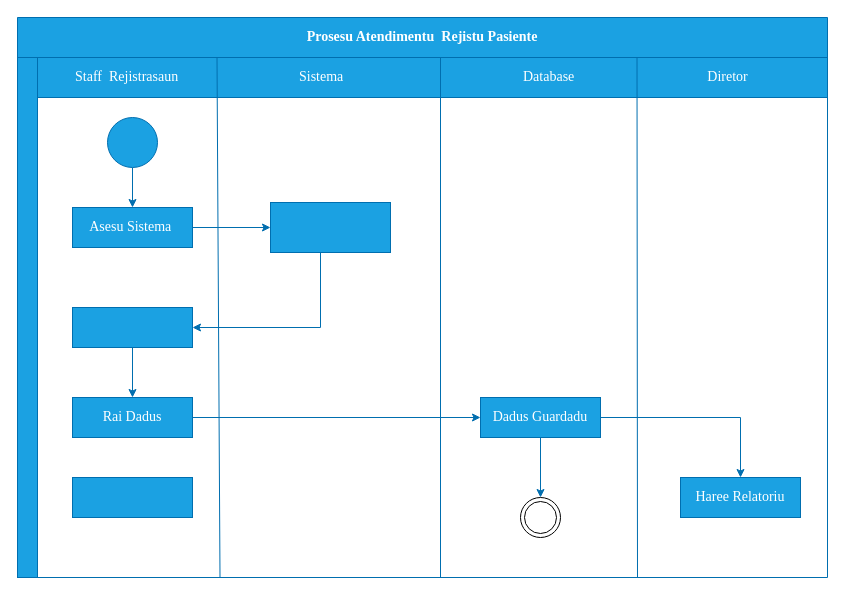
The diagram is 845 pixels wide and 596 high, and some of its shapes have lost their labels. Here are the shapes that lost their labels. From the top down, the box of each, then its label:
(270, 202, 390, 252): Hatudu Menu/formulariu scan
(72, 306, 192, 348): Scan Kartaun
(72, 476, 192, 518): Haree Relatorio
